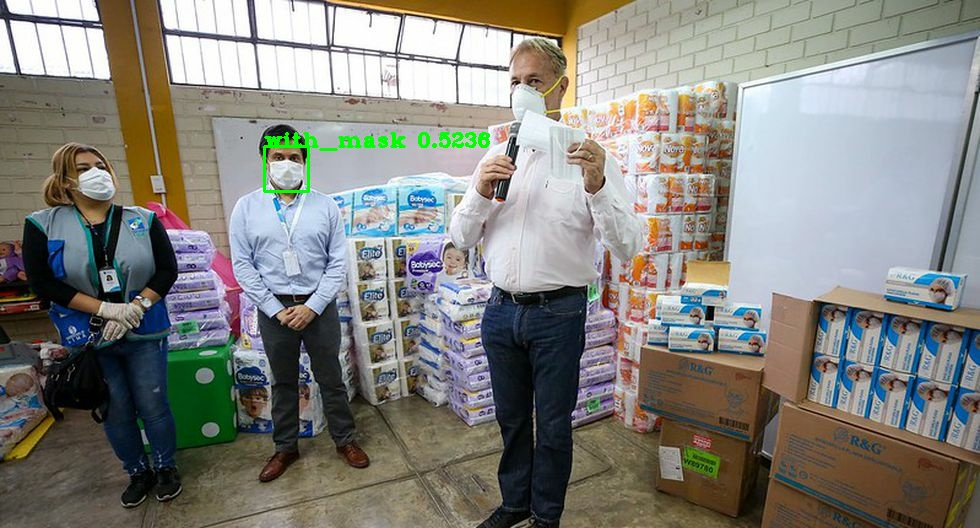with_mask: (499, 38, 580, 132), (253, 124, 318, 198), (58, 146, 124, 214)
